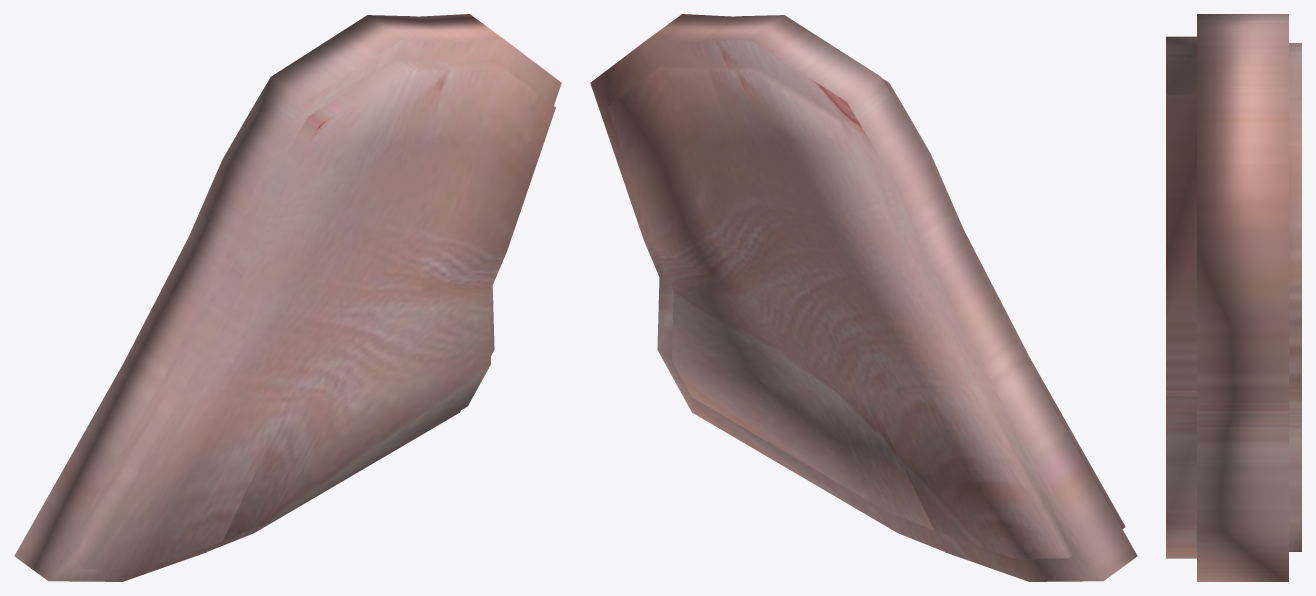
File: dada ayam utuh.fbx
3 views of the same model, side by side, from view 1: azimuth 30°, elevation 25°; view 2: azimuth 150°, elevation 25°; view 3: azimuth 270°, elevation 25° (orthographic). The views are drawn at different scales.
Parts seen in each view (by area): view 1: dada ayam utuh; view 2: dada ayam utuh; view 3: dada ayam utuh.
Part boxes in pixels (left/top/right/bottom): dada ayam utuh: left=14, top=14, right=561, bottom=581; dada ayam utuh: left=590, top=14, right=1137, bottom=581; dada ayam utuh: left=1166, top=14, right=1301, bottom=581.
Size of the model in its own units: 276 by 243 by 47.24.
1 material, 1 textured.
